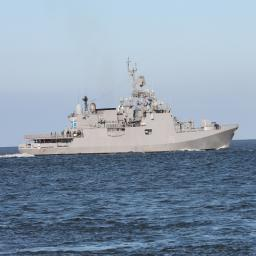Fragata: (16, 51, 241, 160)
